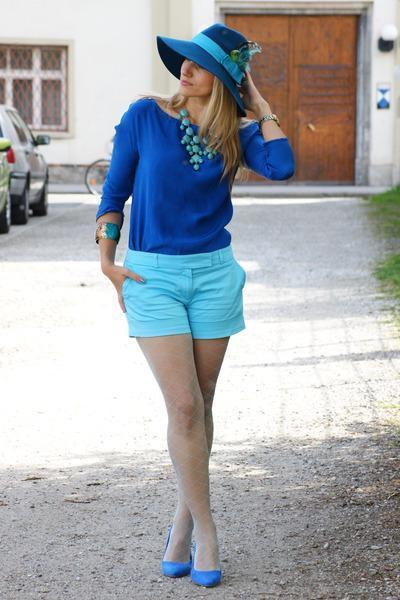hat: (157, 26, 251, 123)
shirt: (96, 98, 294, 254)
shoe: (160, 561, 218, 585)
shorts: (114, 228, 245, 341)
